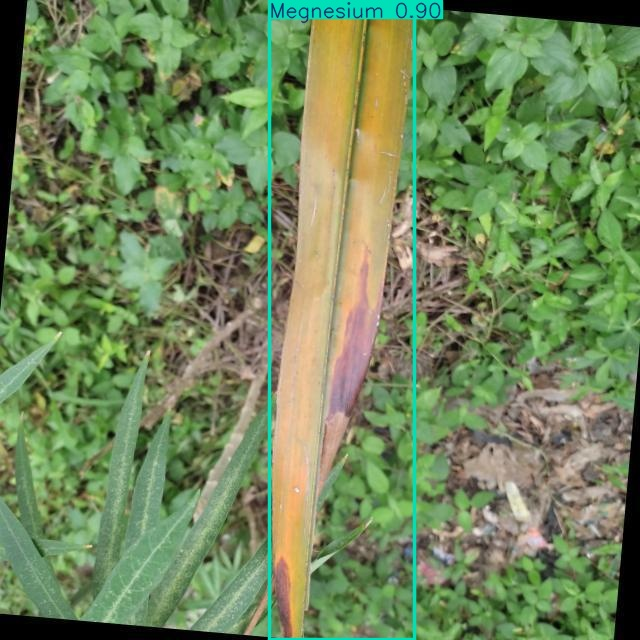Megnesium: (270, 0, 415, 640)
